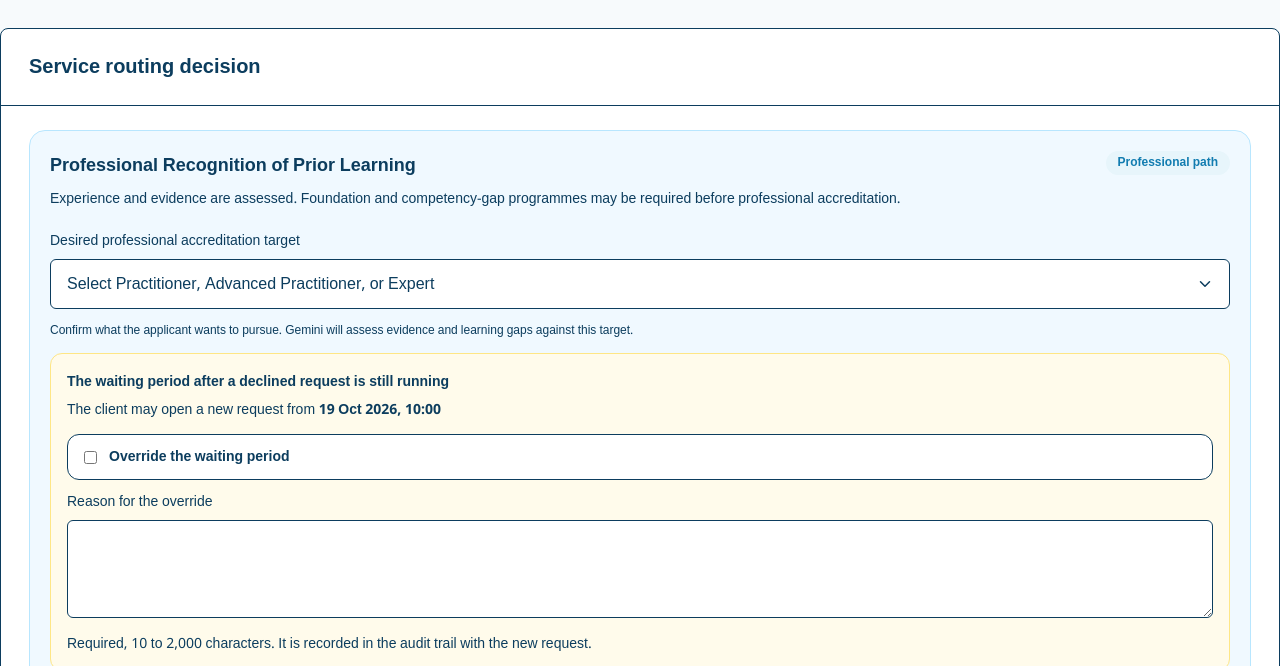
Test: opening an RPL case: the intake rules › shows the server refusal under errors.pathway_id when the API still says no
(page scrolled)
Select "Practitioner" in the dropdown labelled "Desired professional accreditation target". click: [640, 284]
box: left=50, top=259, right=1230, bottom=309
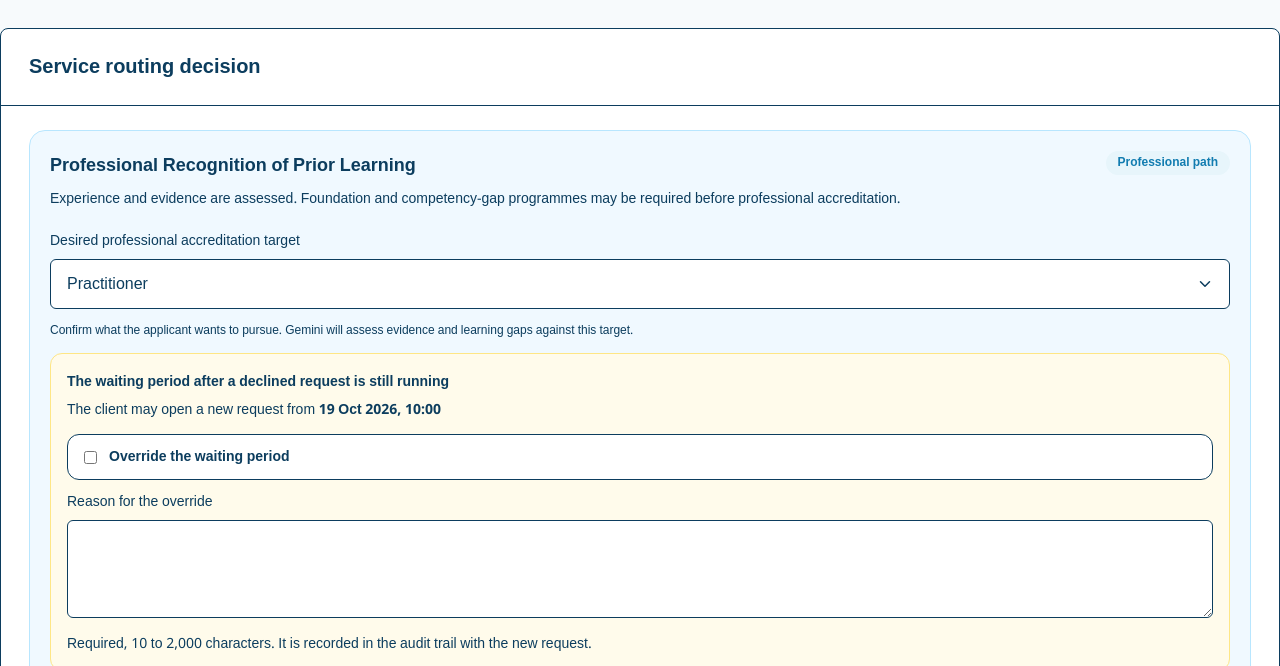
Click the checkbox labelled "Override the waiting period". click: [90, 457]
box: left=84, top=451, right=97, bottom=464
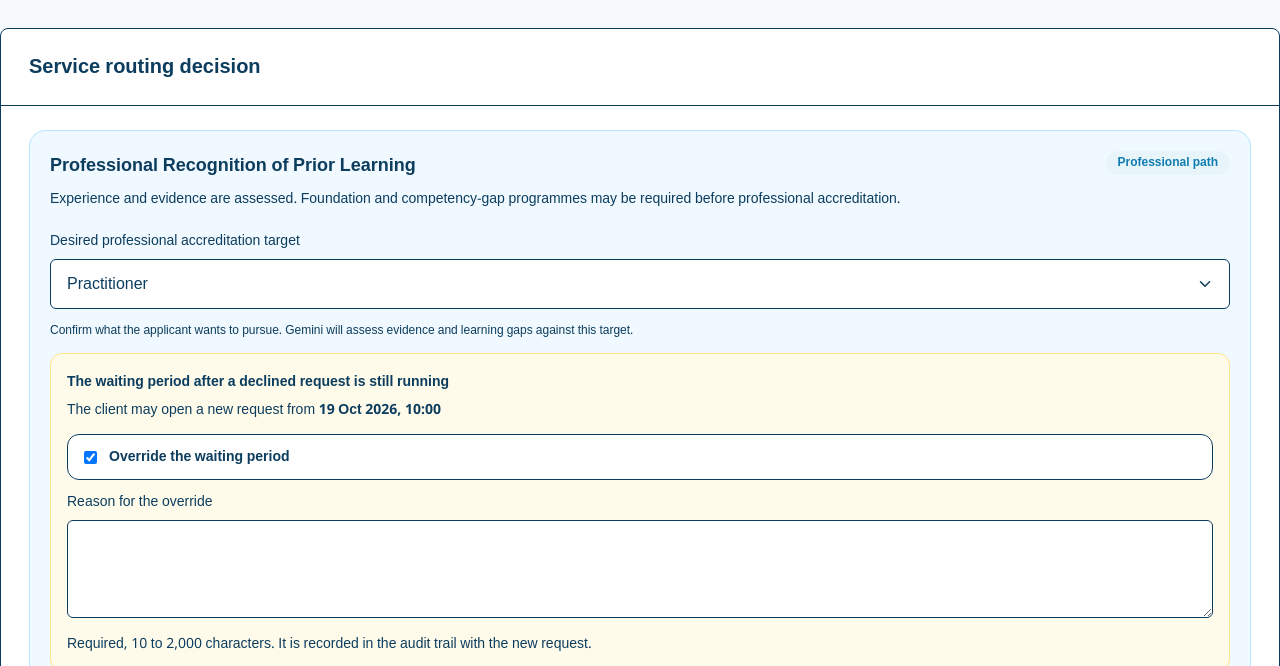
Type "Committee agreed to waive the wait." into the text box labelled "Reason for the override". click: [640, 569]
box: left=67, top=520, right=1213, bottom=618
(page scrolled)
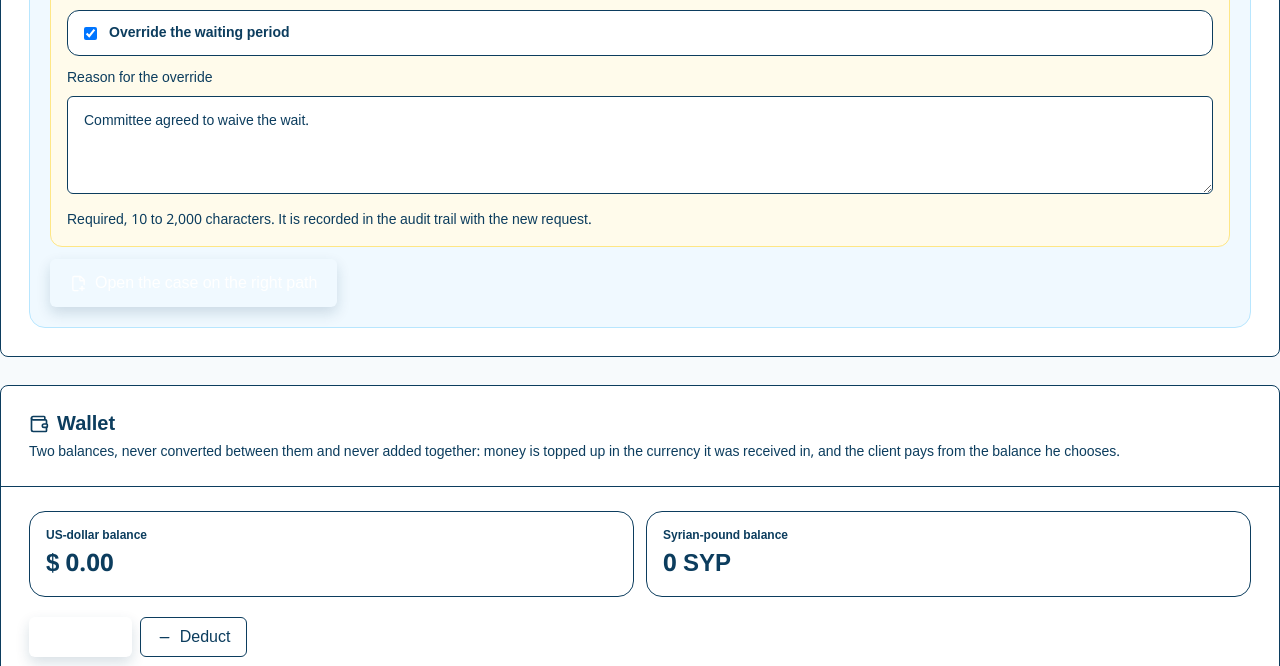
Click the button "Open the case on the right path". click: [194, 283]
box: left=50, top=259, right=338, bottom=307
(page scrolled)
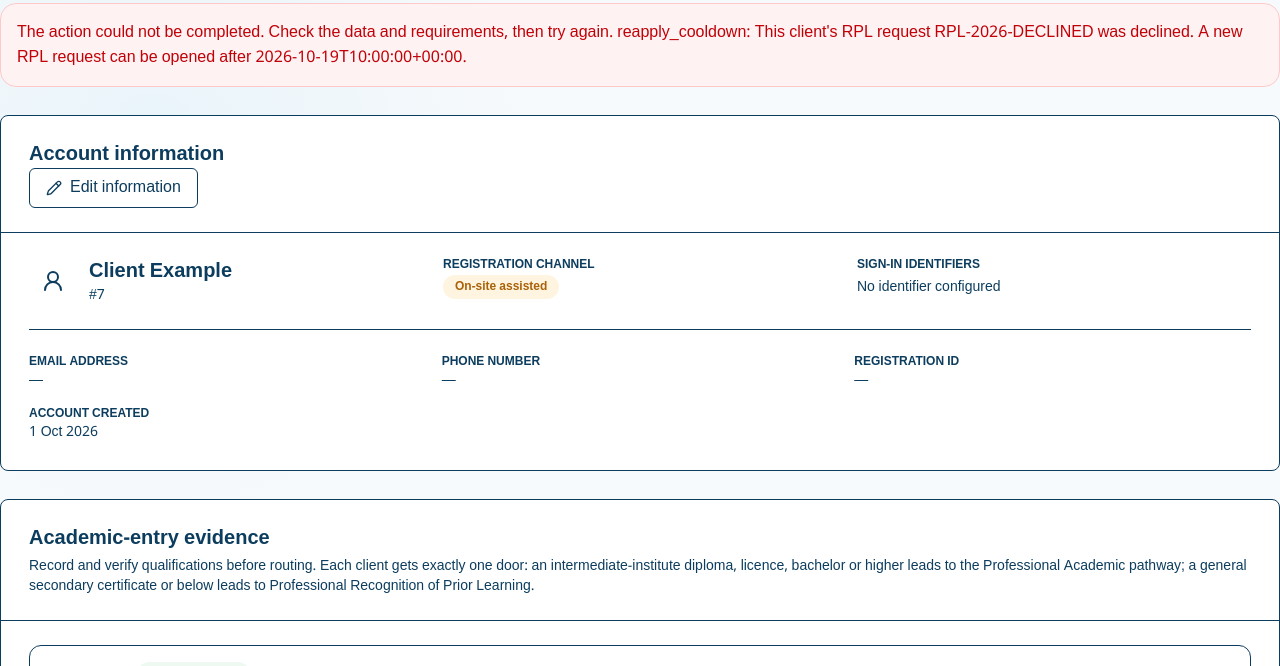
Expected: the message shows "reapply_cooldown: This client's RPL request RPL-2026-DECLINED was declined. A new RPL request can be opened after 2026-10-19T10:00:00+00:00.", left=17, top=15, right=1242, bottom=74
